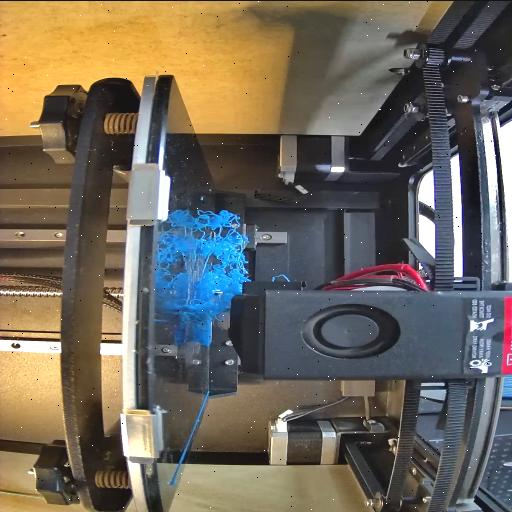spaghetti: (194, 212, 246, 298), (182, 297, 222, 325)
